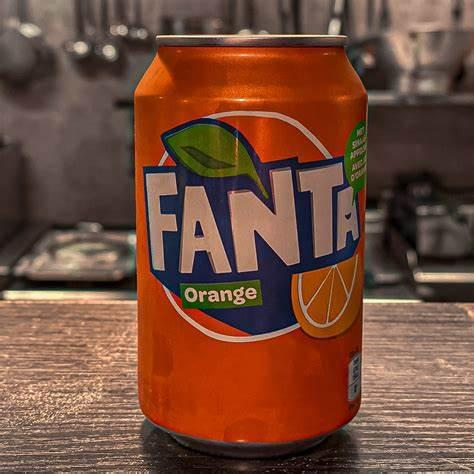metal: (135, 35, 367, 457)
